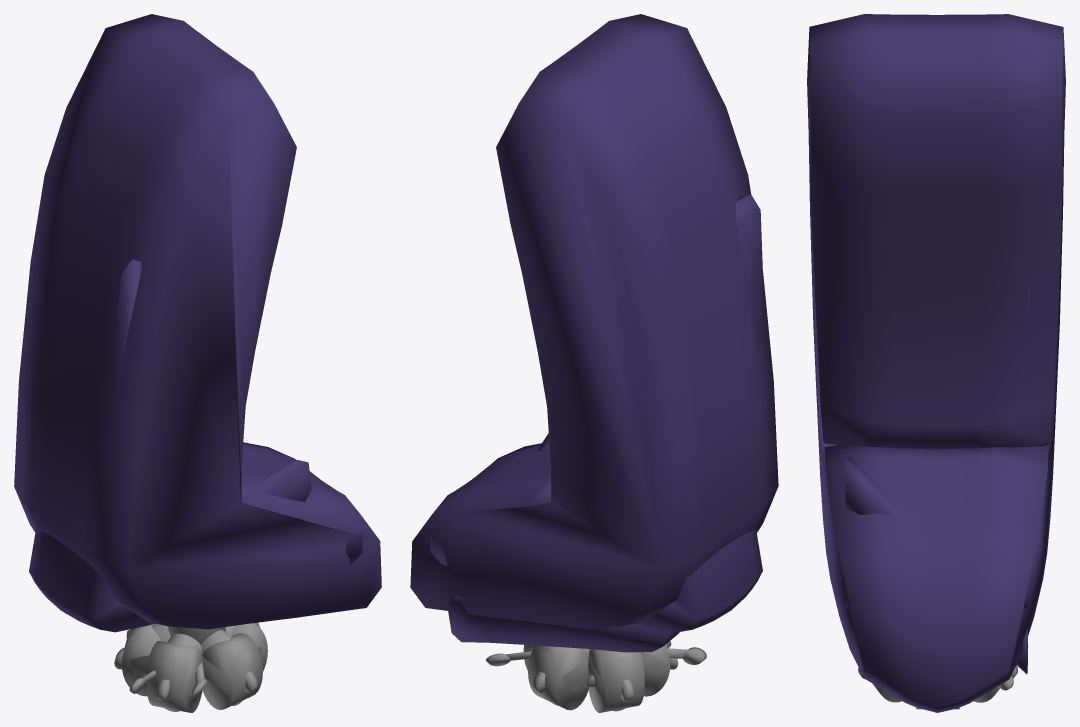
The model's file is DeskchairCollection.fbx.
The picture shows the model from 3 angles, left to right: view 1: azimuth 30°, elevation 25°; view 2: azimuth 150°, elevation 25°; view 3: azimuth 270°, elevation 25°; orthographic projection. The views are drawn at different scales.
Parts seen in each view (by area): view 1: seat.003, seatleg.003, seat.001, seat.002, seatleg.002; view 2: seat.003, seat.002, seatleg.003, seat.001, seatleg.002; view 3: seat.003, seat.002.
Part boxes in pixels (bbox=[...]): seat.003: bbox=[14, 14, 381, 629]; seatleg.003: bbox=[121, 622, 267, 712]; seat.001: bbox=[29, 527, 363, 632]; seat.002: bbox=[114, 259, 311, 502]; seatleg.002: bbox=[129, 663, 206, 696]; seat.003: bbox=[410, 14, 778, 628]; seat.002: bbox=[447, 195, 762, 652]; seatleg.003: bbox=[523, 644, 670, 712]; seat.001: bbox=[430, 527, 762, 632]; seatleg.002: bbox=[485, 641, 706, 687]; seat.003: bbox=[807, 14, 1065, 712]; seat.002: bbox=[845, 286, 1029, 674].
Bounding box in the file's own units: 144 × 281 × 99.92.
